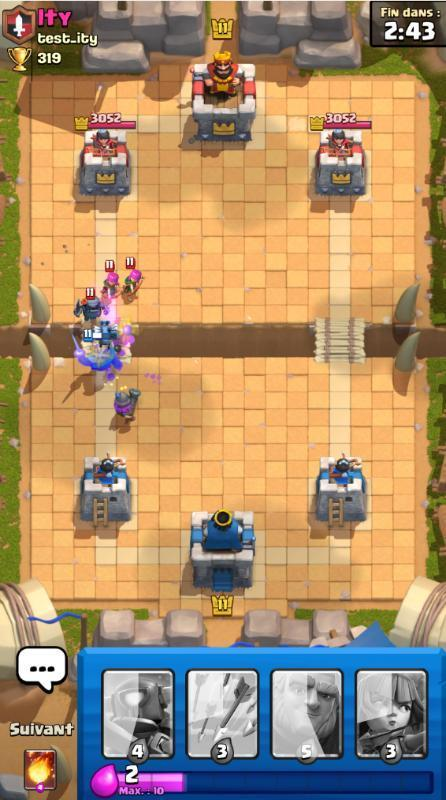enemy_archers: (120, 259, 145, 296), (98, 260, 121, 297)
enemy_mini_pekka: (70, 286, 107, 322)
player_knight: (66, 329, 128, 377)
player_musketeer: (104, 380, 148, 426)
